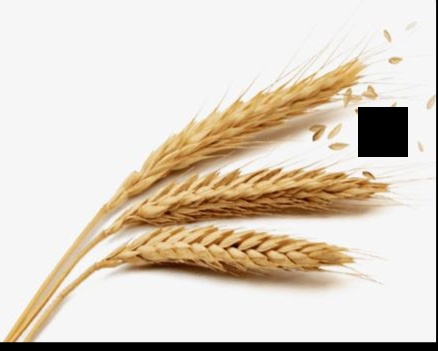wheat: (113, 56, 369, 191), (32, 221, 373, 309), (102, 159, 398, 230)
